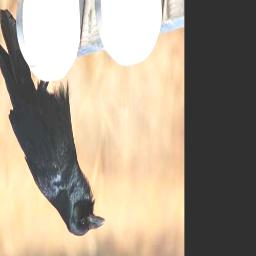Crow: (0, 6, 105, 237)
